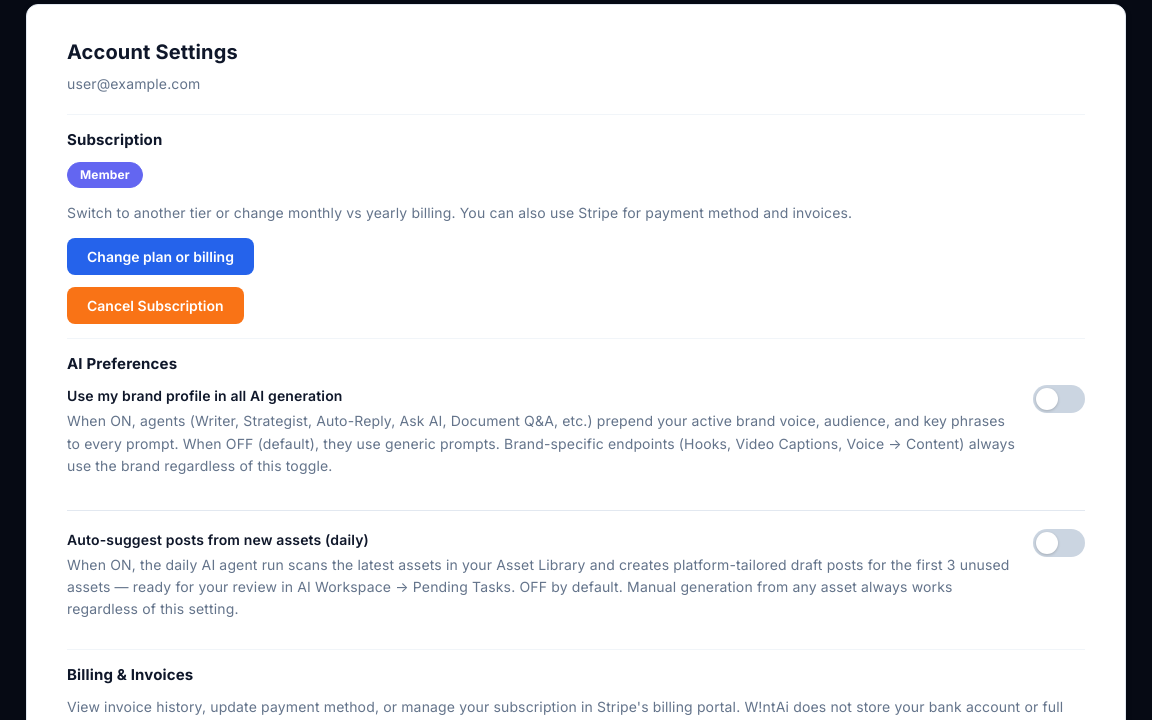
Test: AccountSettings › shows confirmation dialog when Cancel Subscription is clicked
The image size is (1152, 720).
Click the button "Cancel Subscription" at [155, 305], box 67,287 -> 244,324
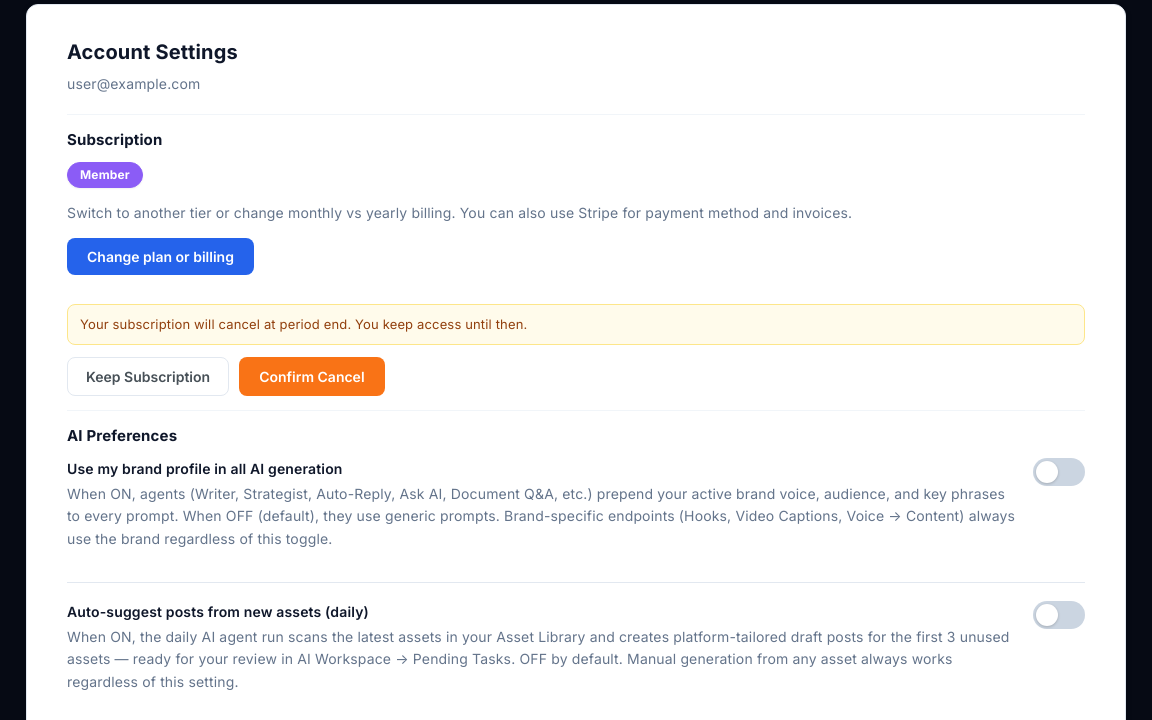
Now the button "Confirm Cancel" is shown, box 239,357 -> 384,396
Now the button "Keep Subscription" is shown, box 67,357 -> 229,396
